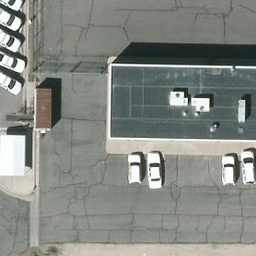car: (146, 154, 163, 188), (218, 155, 235, 185), (239, 154, 256, 184), (1, 53, 26, 73), (1, 72, 22, 95), (1, 8, 22, 31), (127, 153, 142, 184), (1, 31, 21, 50), (1, 1, 25, 10)
